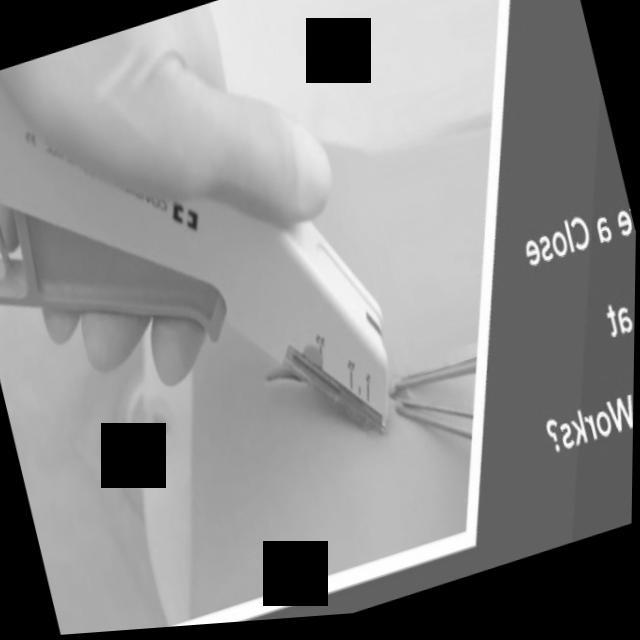Skin Stapler: (0, 0, 420, 545)
